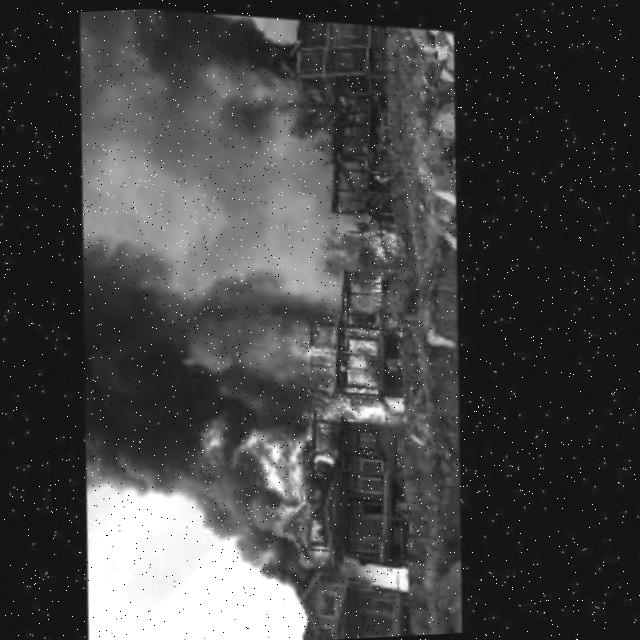fire: (57, 220, 299, 583), (78, 0, 353, 192), (246, 394, 425, 578), (281, 272, 419, 432), (357, 222, 419, 270)
